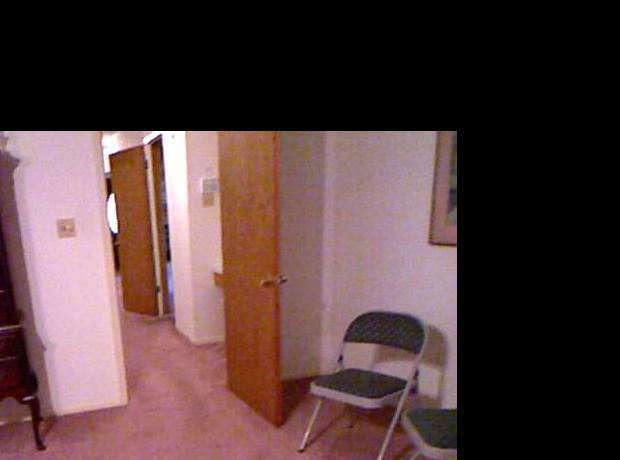Armario: (0, 132, 46, 460)
